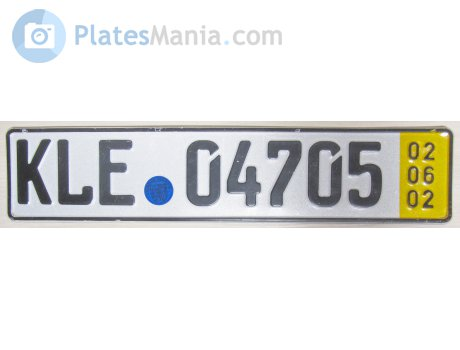License Plates: (13, 136, 394, 212)
